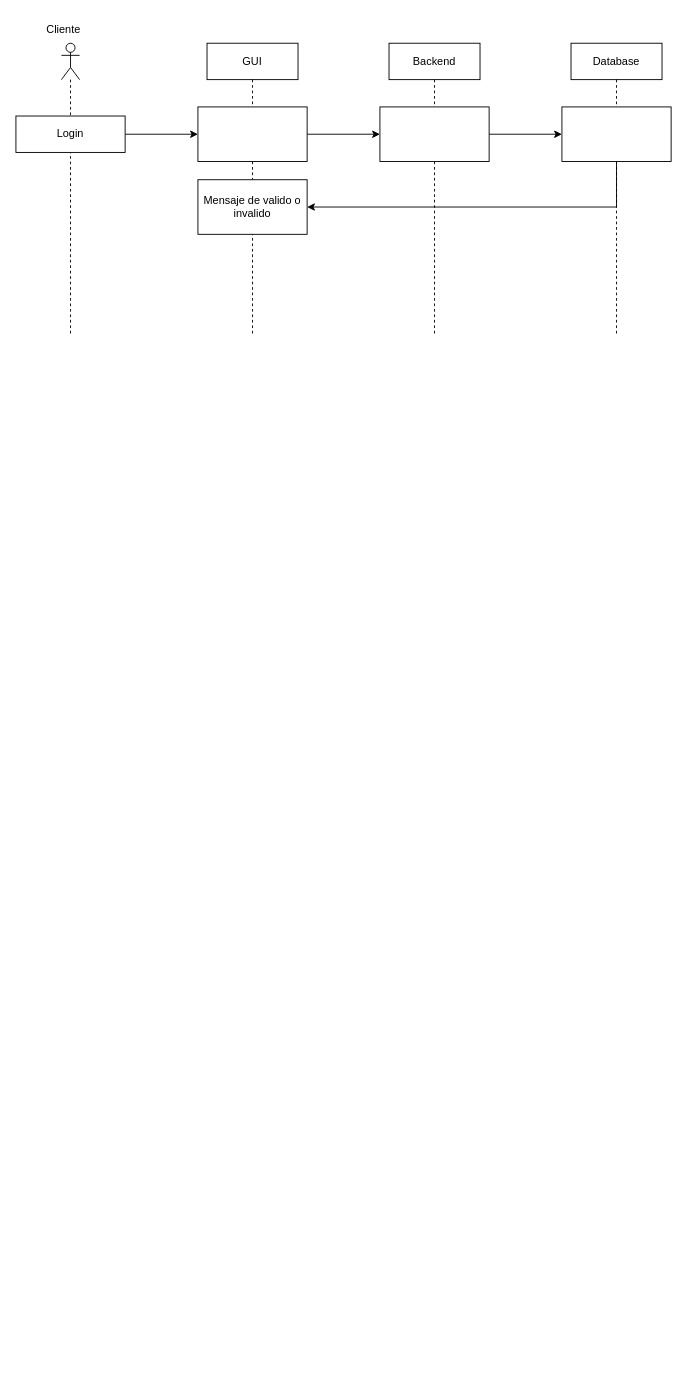
The diagram is 687 pixels wide and 1386 high, and some of its shapes have lost their labels. The shapes that lost their labels are listed below. From the top down, each one's centre as x and y in pixels, then its label:
At [252,134]: "encapsula, valida campos en blanco".
At [434,134]: "Comunica con la base de datos".
At [616,134]: "Verifica si el usuario existe en la base de datos".
